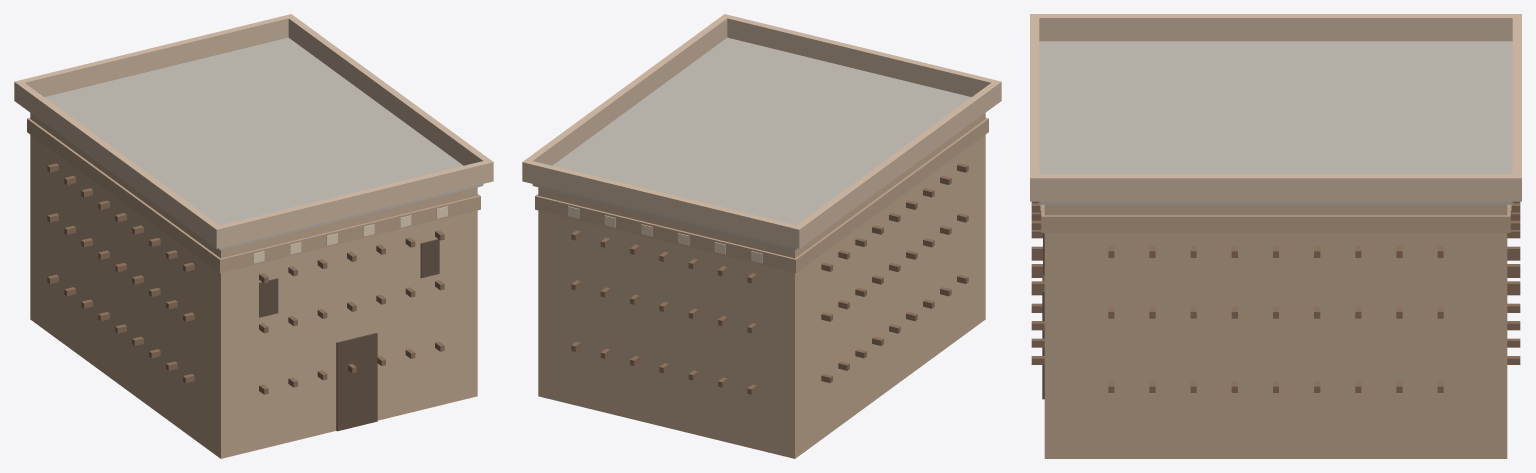
File: birni_fonce.glb
3 views of the same model, side by side, from view 1: azimuth 30°, elevation 25°; view 2: azimuth 150°, elevation 25°; view 3: azimuth 270°, elevation 25° (orthographic). The views are drawn at different scales.
Parts seen in each view (by area): view 1: birniB_mur, birniB_dalle, birniB_p1, birniB_bande, birniB_p2, birniB_p4, birniB_p3, birniB_porte, birniB_f2, birniB_f1; view 2: birniB_mur, birniB_dalle, birniB_p2, birniB_bande, birniB_p1, birniB_p4, birniB_p3; view 3: birniB_mur, birniB_dalle, birniB_p3, birniB_p4, birniB_bande, birniB_p1, birniB_p2.
Boxes of the visible parts, x1,y1,x2,y2 form: birniB_mur: [30, 113, 477, 458]; birniB_dalle: [44, 37, 483, 250]; birniB_p1: [212, 159, 493, 248]; birniB_bande: [27, 118, 480, 273]; birniB_p2: [14, 14, 294, 103]; birniB_p4: [18, 83, 218, 245]; birniB_p3: [288, 17, 489, 165]; birniB_porte: [336, 332, 377, 431]; birniB_f2: [420, 239, 439, 278]; birniB_f1: [259, 278, 278, 317]; birniB_mur: [538, 113, 985, 458]; birniB_dalle: [532, 37, 971, 250]; birniB_p2: [522, 159, 803, 248]; birniB_bande: [535, 118, 988, 273]; birniB_p1: [721, 14, 1001, 103]; birniB_p4: [797, 83, 997, 245]; birniB_p3: [526, 17, 727, 165]; birniB_mur: [1044, 204, 1507, 458]; birniB_dalle: [1039, 41, 1512, 204]; birniB_p3: [1039, 174, 1512, 201]; birniB_p4: [1039, 14, 1512, 41]; birniB_bande: [1041, 204, 1510, 232]; birniB_p1: [1030, 14, 1039, 201]; birniB_p2: [1512, 14, 1521, 201].
Bounding box in the file's own units: 7.56 × 6.15 × 9.56.
